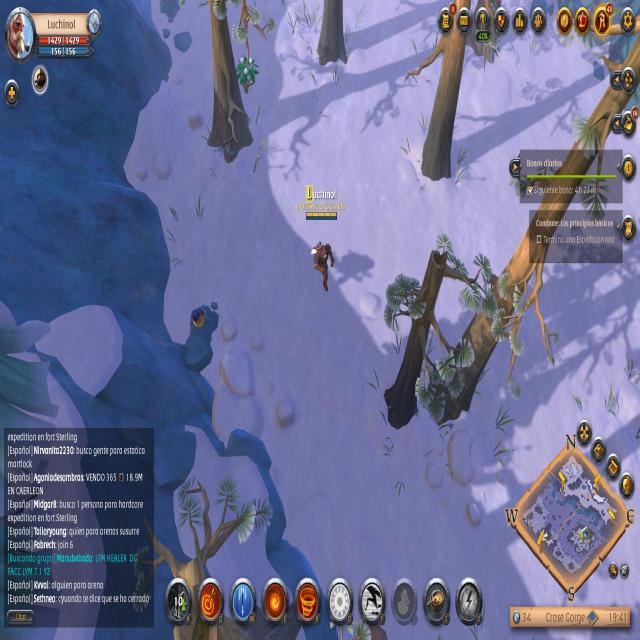piedra_cobre: (182, 302, 220, 371)
